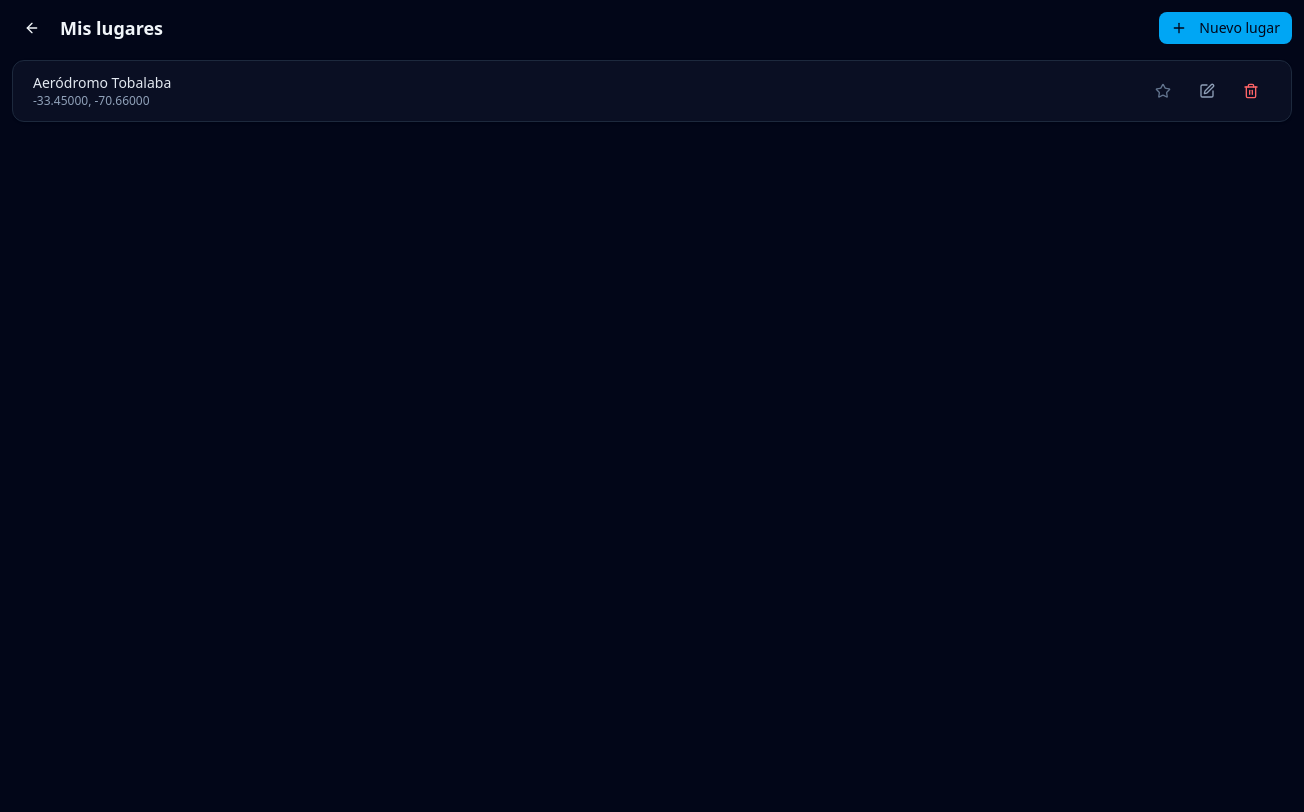
Test: PlacesPage › deletes a place after inline confirmation
Expected: the text "Aeródromo Tobalaba" is shown, [33,73,171,93]
Click the button named "Eliminar lugar".
click(1251, 91)  # box [1231,75,1271,107]
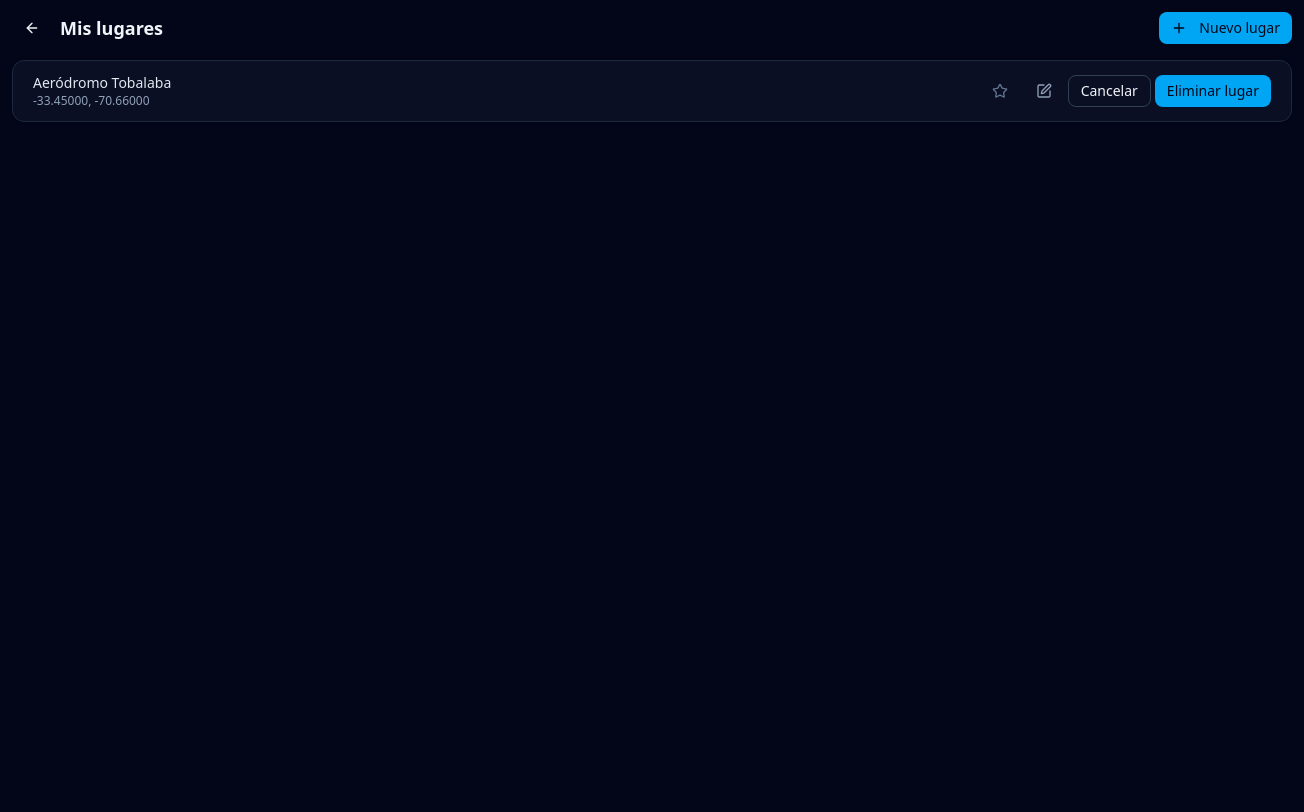
Click the button "Eliminar lugar".
click(1213, 91)  # box [1155,75,1271,107]
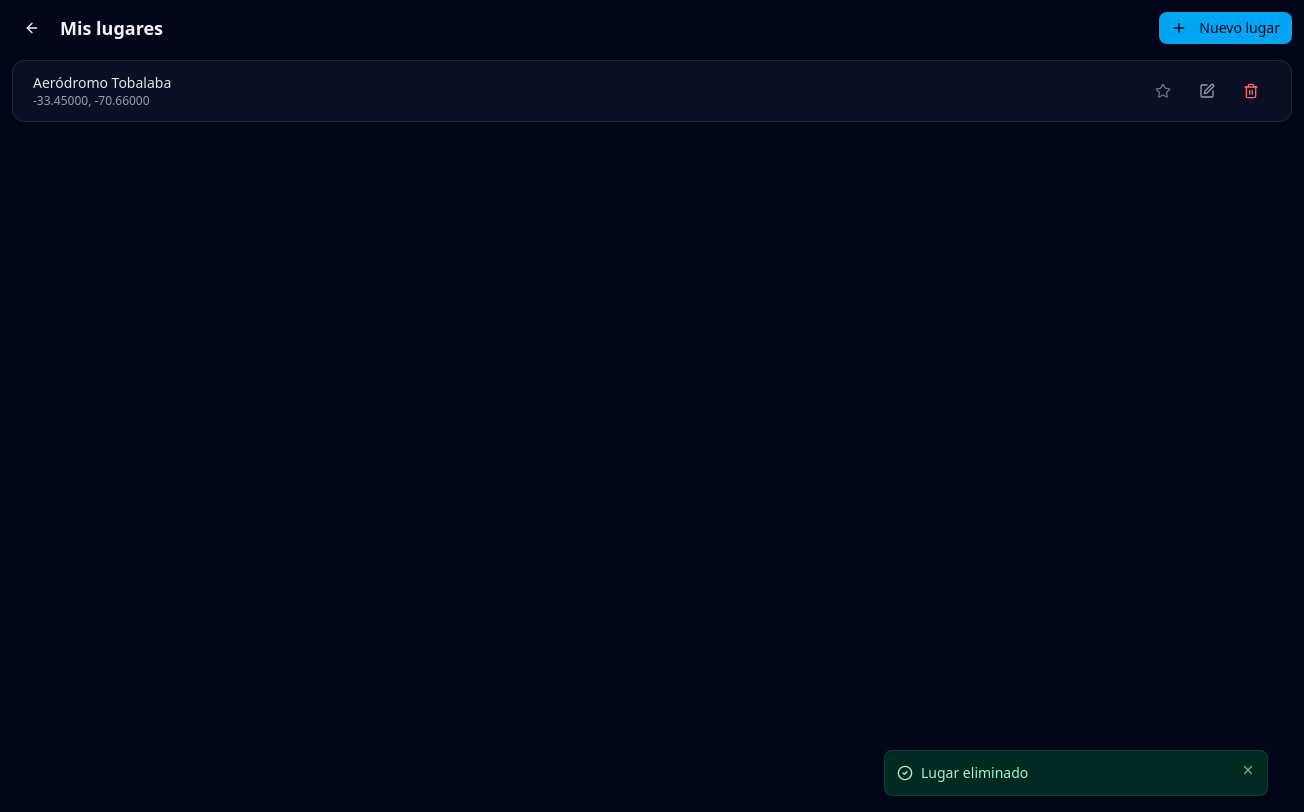
Expected: the text "Lugar eliminado" is shown, [921,763,1028,782]
